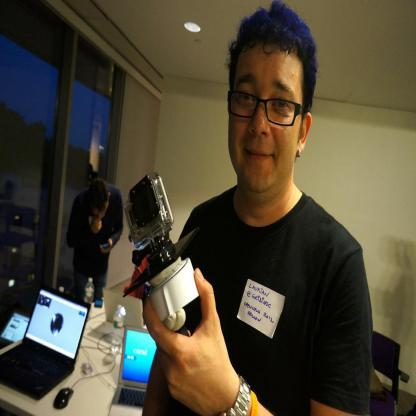board: (6, 278, 89, 401), (108, 324, 157, 416), (0, 309, 29, 347), (110, 304, 126, 353), (86, 276, 94, 312)
